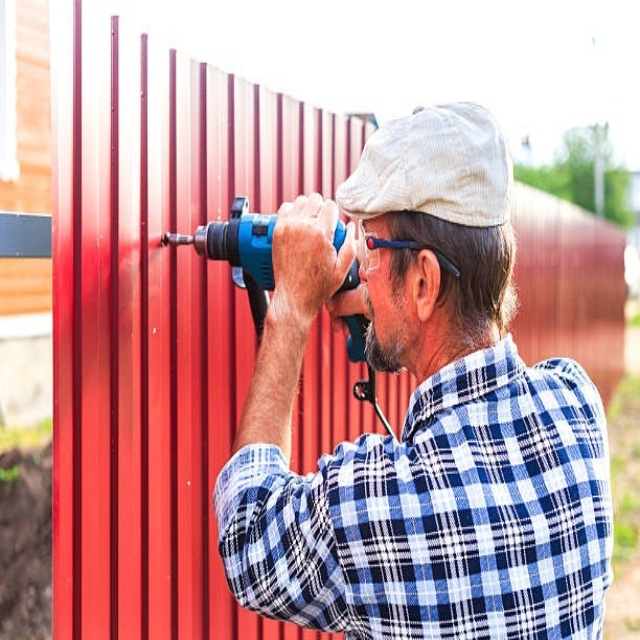Gafas: (363, 233, 462, 279)
Sin_guantes: (268, 192, 352, 317)
Sin_mascara: (358, 276, 404, 359)
